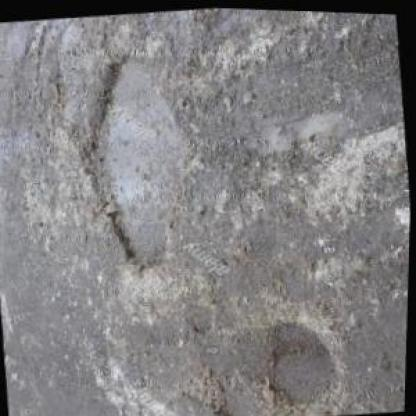pothole: (64, 42, 204, 278), (245, 95, 350, 170), (260, 314, 342, 410)
